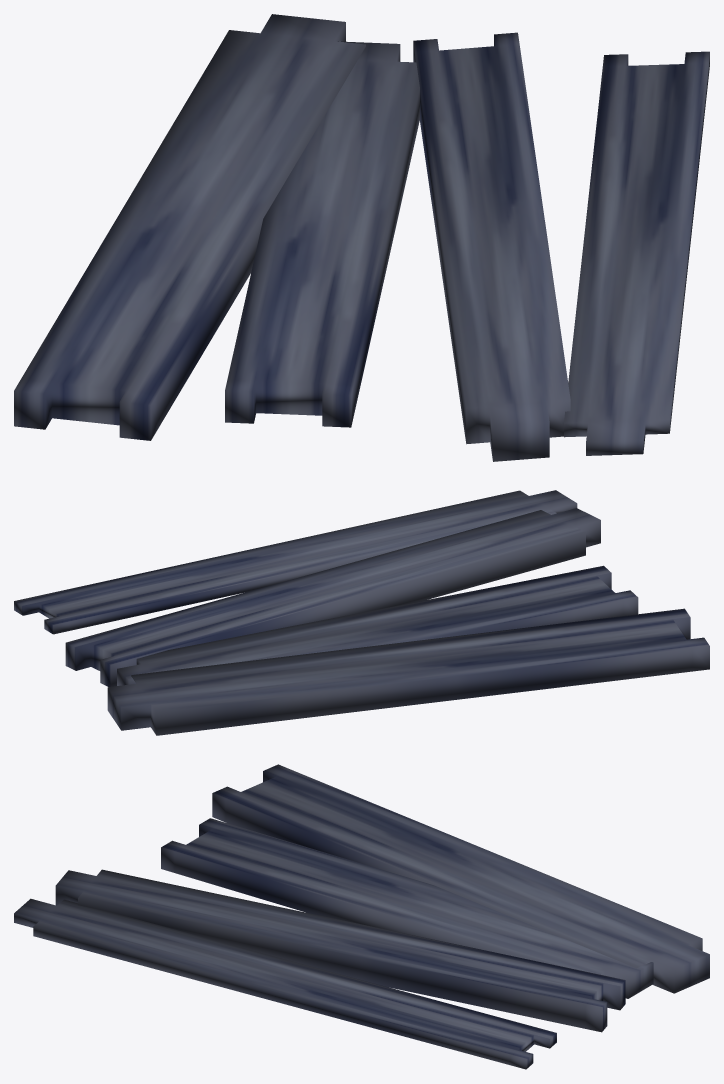
The model's file is Tralha.fbx.
The picture shows the model from 3 angles, top to bottom: view 1: azimuth 30°, elevation 25°; view 2: azimuth 150°, elevation 25°; view 3: azimuth 270°, elevation 25°; orthographic projection. The views are drawn at different scales.
Parts seen in each view (by area): view 1: Tralha; view 2: Tralha; view 3: Tralha.
Boxes of the visible parts, x1,y1,x2,y2 form: Tralha: (14,14,709,461); Tralha: (14,490,709,735); Tralha: (14,764,709,1069).
Size of the model in its own units: 310 by 316 by 11.96.
